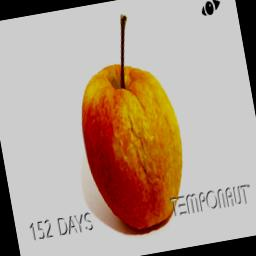Apple Overripe: (59, 0, 198, 241)
